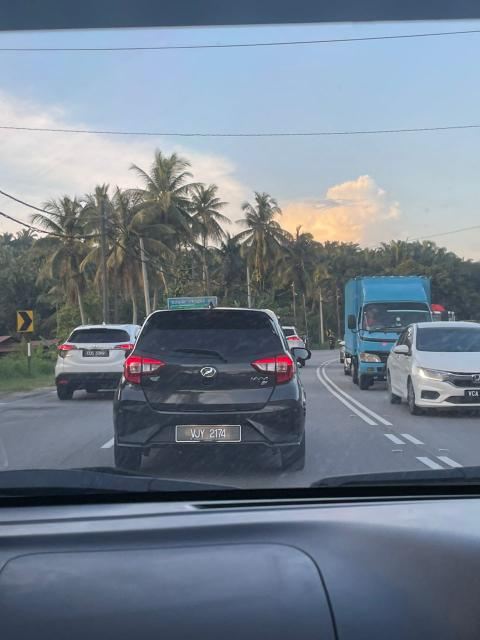License_Plate: (172, 425, 247, 445), (79, 349, 111, 360)
car: (114, 308, 309, 472), (53, 324, 144, 400)
